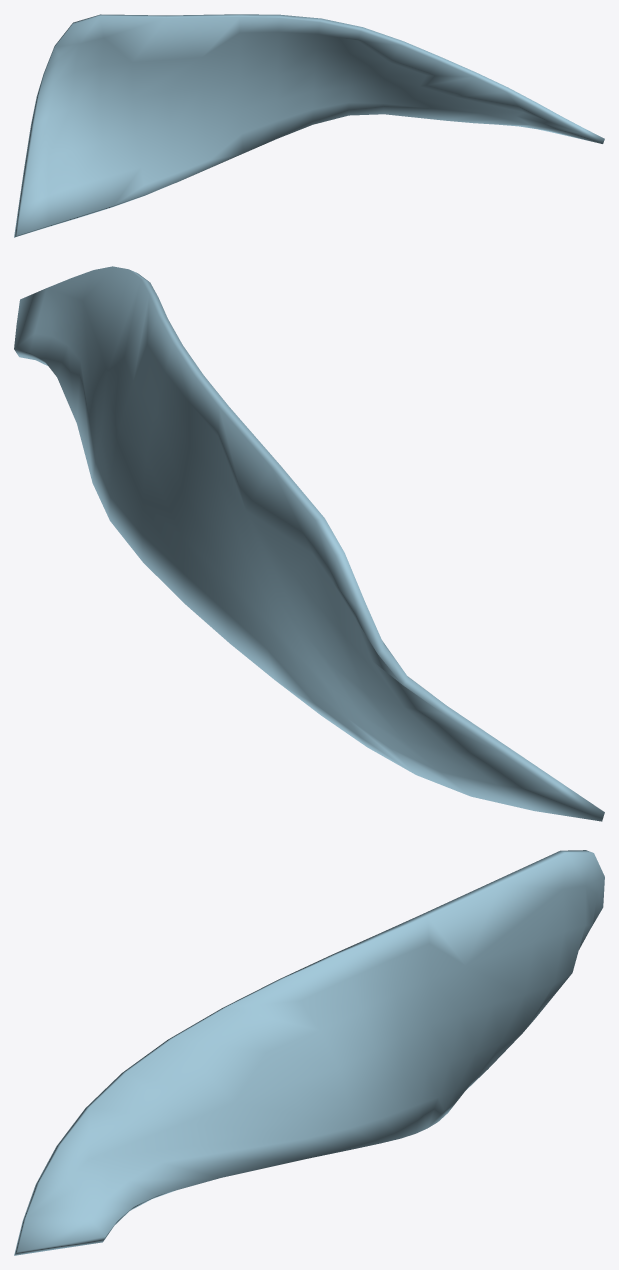
File: articulacoes-ischiofemoral-ligament-l.glb
3 renders of one model, top to bottom at view 1: azimuth 30°, elevation 25°; view 2: azimuth 150°, elevation 25°; view 3: azimuth 270°, elevation 25°, orthographic. The views are drawn at different scales.
Parts seen in each view (by area): view 1: Ischiofemoral ligament.l; view 2: Ischiofemoral ligament.l; view 3: Ischiofemoral ligament.l.
Part boxes in pixels (x1,y1,x2,y2): Ischiofemoral ligament.l: [14, 14, 604, 237]; Ischiofemoral ligament.l: [14, 266, 604, 821]; Ischiofemoral ligament.l: [14, 850, 604, 1255].
Bounding box in the file's own units: 0.0449 × 0.0166 × 0.0309.
